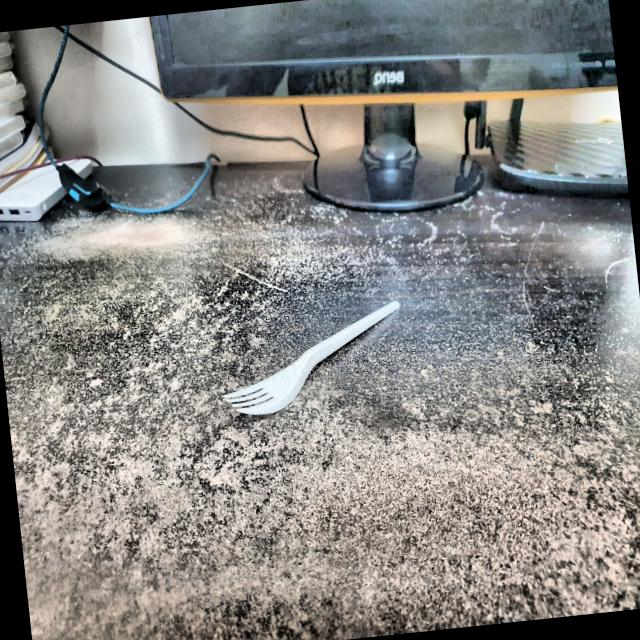plastic utensil: (210, 298, 412, 436)
